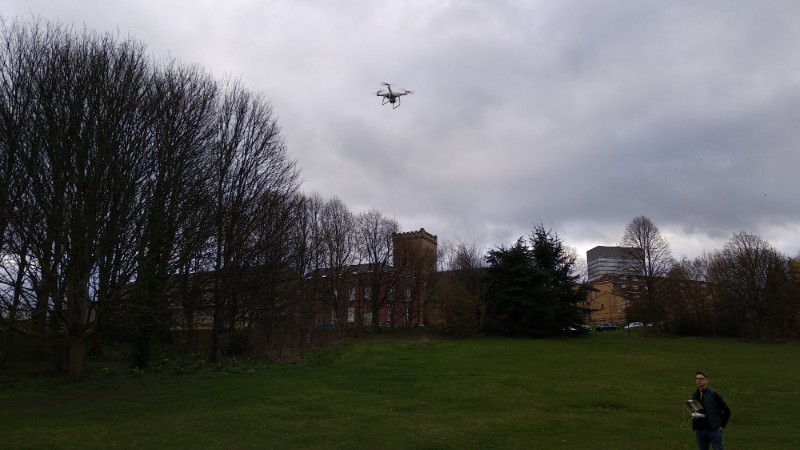drone: (373, 81, 416, 109)
